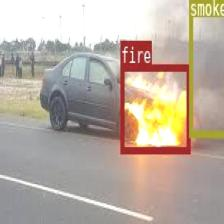fire: (120, 64, 189, 152)
smoke: (188, 0, 224, 135)
